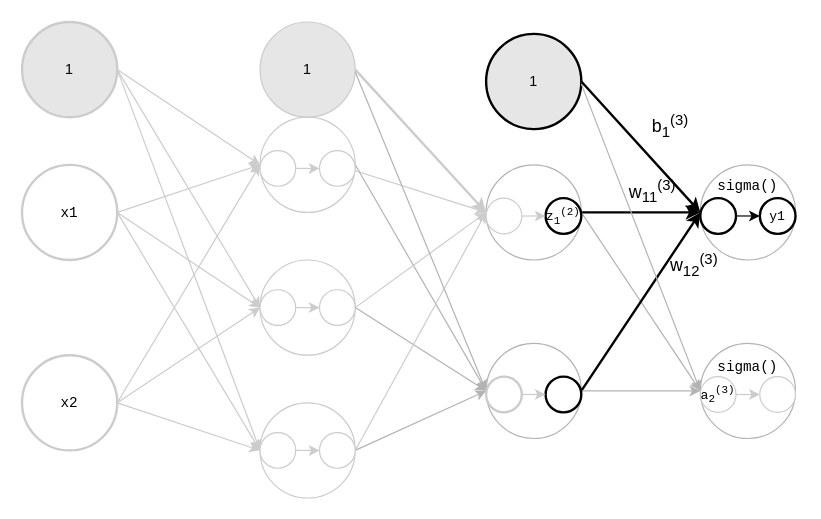
Some shapes in this 821 by 519 pixel diagram are drawn without their labels. The centre of each missing label's shape, as x and y in pixels:
a 1 (3): point (718, 215)
y2: point (777, 393)
z 2 (2): point (563, 394)
